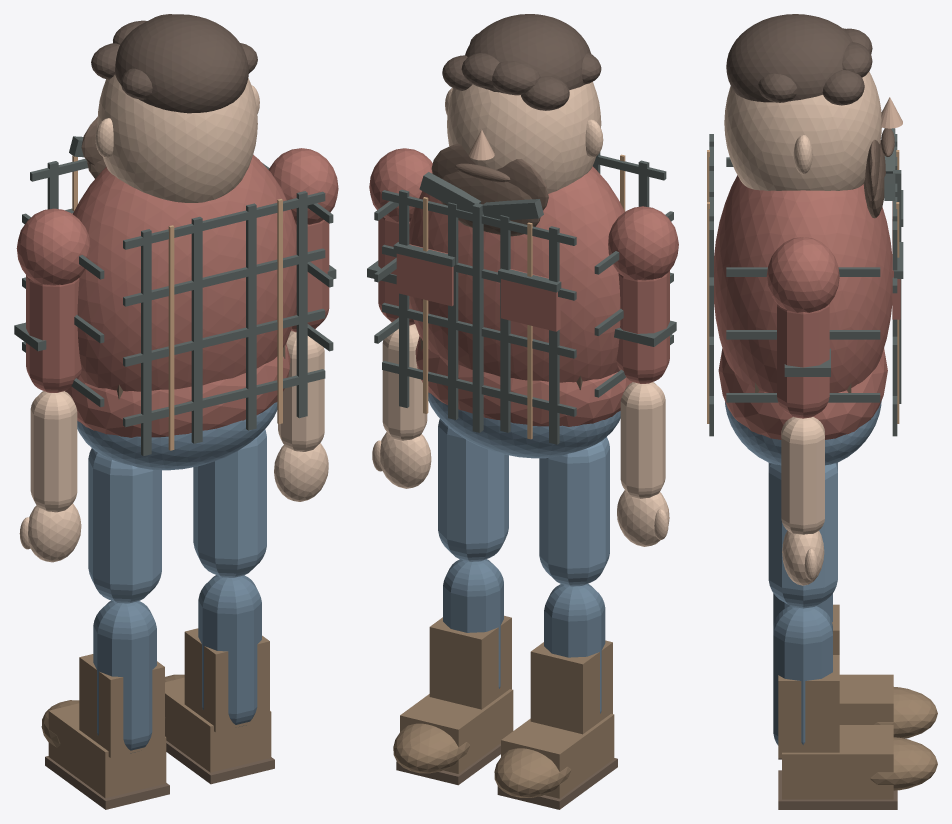
The model's file is john.glb.
3 renders of one model, left to right at view 1: azimuth 30°, elevation 25°; view 2: azimuth 150°, elevation 25°; view 3: azimuth 270°, elevation 25°, orthographic. The views are drawn at different scales.
Visible parts, largest first — view 1: torso, headMesh, leftThigh, hairCap, rightThigh, rightShin, leftShin, lowerTorso, leftBootBase, leftForearm, leftUpperArm, pelvisMesh (+25 smaller); view 2: torso, headMesh, leftThigh, rightThigh, rightBootShaft, leftBootShaft, lowerTorso, hairCap, leftForearm, pelvisMesh, leftUpperArm, leftBootBase (+40 smaller); view 3: torso, headMesh, hairCap, rightBootBase, rightUpperArm, rightForearm, rightThigh, rightShin, lowerTorso, rightBootShaft, rightShoulderCap, leftBootBase (+22 smaller).
Boxes of the visible parts, x1=… form: torso: x1=73, y1=154, x2=296, y2=391; headMesh: x1=97, y1=74, x2=257, y2=202; leftThigh: x1=88, y1=448, x2=161, y2=603; hairCap: x1=115, y1=14, x2=248, y2=113; rightThigh: x1=193, y1=429, x2=266, y2=577; rightShin: x1=198, y1=575, x2=261, y2=726; leftShin: x1=93, y1=600, x2=156, y2=753; lowerTorso: x1=65, y1=344, x2=290, y2=437; leftBootBase: x1=48, y1=703, x2=166, y2=798; leftForearm: x1=30, y1=391, x2=77, y2=512; leftUpperArm: x1=26, y1=275, x2=81, y2=392; pelvisMesh: x1=77, y1=402, x2=277, y2=470; torso: x1=409, y1=166, x2=624, y2=382; headMesh: x1=447, y1=82, x2=601, y2=193; leftThigh: x1=539, y1=437, x2=609, y2=586; rightThigh: x1=438, y1=419, x2=508, y2=561; rightBootShaft: x1=429, y1=615, x2=511, y2=709; leftBootShaft: x1=530, y1=640, x2=612, y2=734; lowerTorso: x1=415, y1=336, x2=632, y2=426; hairCap: x1=465, y1=14, x2=591, y2=93; leftForearm: x1=620, y1=382, x2=665, y2=498; pelvisMesh: x1=428, y1=392, x2=620, y2=458; leftUpperArm: x1=616, y1=270, x2=669, y2=383; leftBootBase: x1=501, y1=713, x2=614, y2=798; torso: x1=714, y1=175, x2=892, y2=392; headMesh: x1=724, y1=71, x2=881, y2=190; hairCap: x1=726, y1=14, x2=852, y2=102; rightBootBase: x1=782, y1=725, x2=893, y2=799; rightUpperArm: x1=777, y1=304, x2=829, y2=418; rightForearm: x1=781, y1=416, x2=824, y2=534; rightThigh: x1=768, y1=463, x2=837, y2=608; rightShin: x1=773, y1=606, x2=832, y2=745; lowerTorso: x1=718, y1=348, x2=887, y2=439; rightBootShaft: x1=778, y1=655, x2=839, y2=757; rightShoulderCap: x1=766, y1=237, x2=839, y2=312; leftBootBase: x1=839, y1=674, x2=893, y2=724.
Size of what is drawn, in the model's own units: 0.92 by 2.14 by 0.6.
